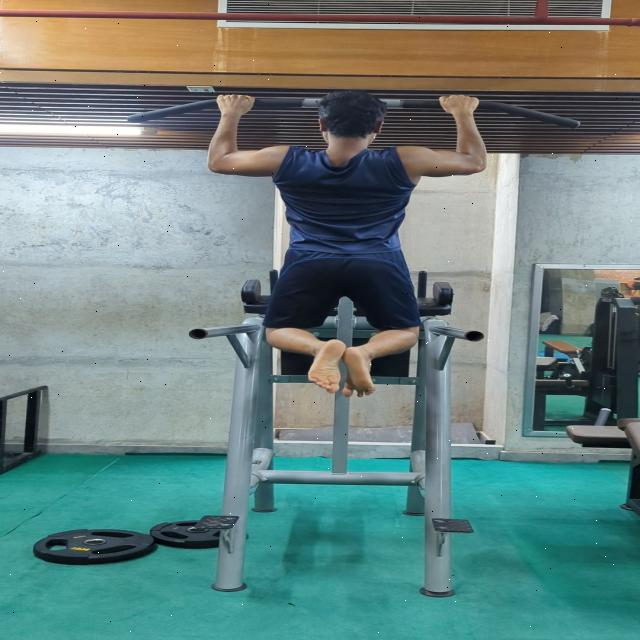Normal_PullUps: (193, 88, 498, 406)
